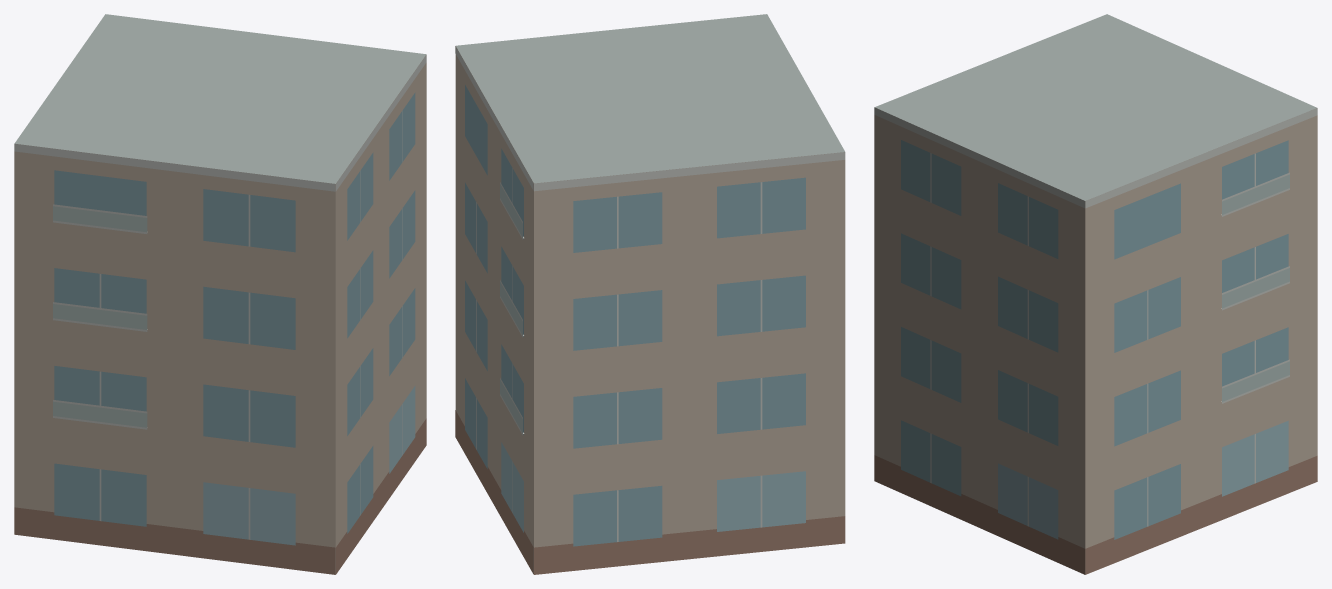
Rendered from residential-67c40478-7435-4603-93bd-9be0c14f159c.glb.
The picture shows the model from 3 angles, left to right: view 1: azimuth 30°, elevation 25°; view 2: azimuth 150°, elevation 25°; view 3: azimuth 270°, elevation 25°; orthographic projection. The views are drawn at different scales.
Visible parts, largest first — view 1: residential-67c40478-7435-4603-93bd-9be0c14f159c.tmp; view 2: residential-67c40478-7435-4603-93bd-9be0c14f159c.tmp; view 3: residential-67c40478-7435-4603-93bd-9be0c14f159c.tmp.
Boxes of the visible parts, x1,y1,x2,y2 form: residential-67c40478-7435-4603-93bd-9be0c14f159c.tmp: (14, 14, 426, 574); residential-67c40478-7435-4603-93bd-9be0c14f159c.tmp: (455, 14, 845, 574); residential-67c40478-7435-4603-93bd-9be0c14f159c.tmp: (874, 14, 1317, 574).
Bounding box in the file's own units: 13.1 × 12.2 × 13.11.
